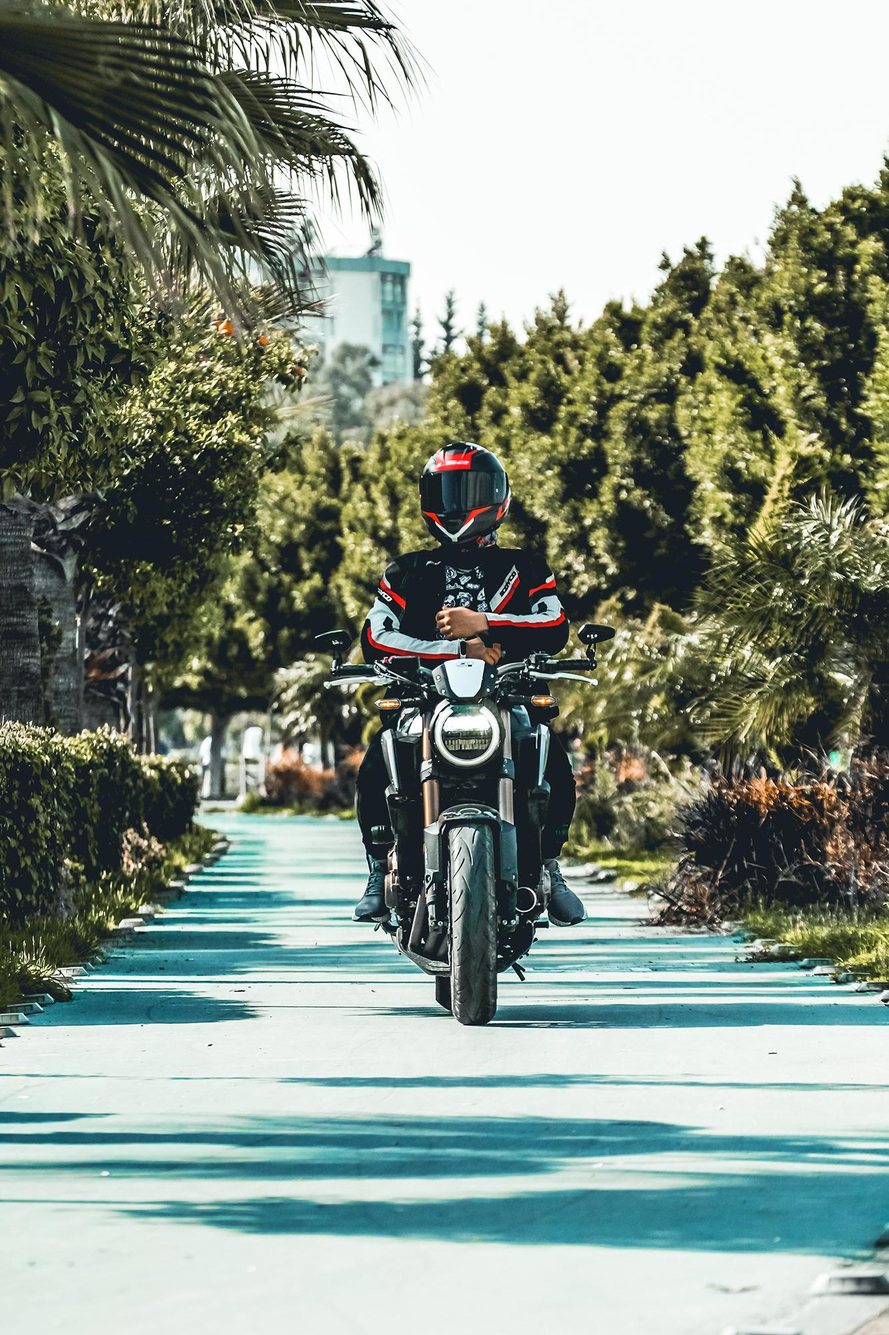helmet: (418, 440, 513, 546)
